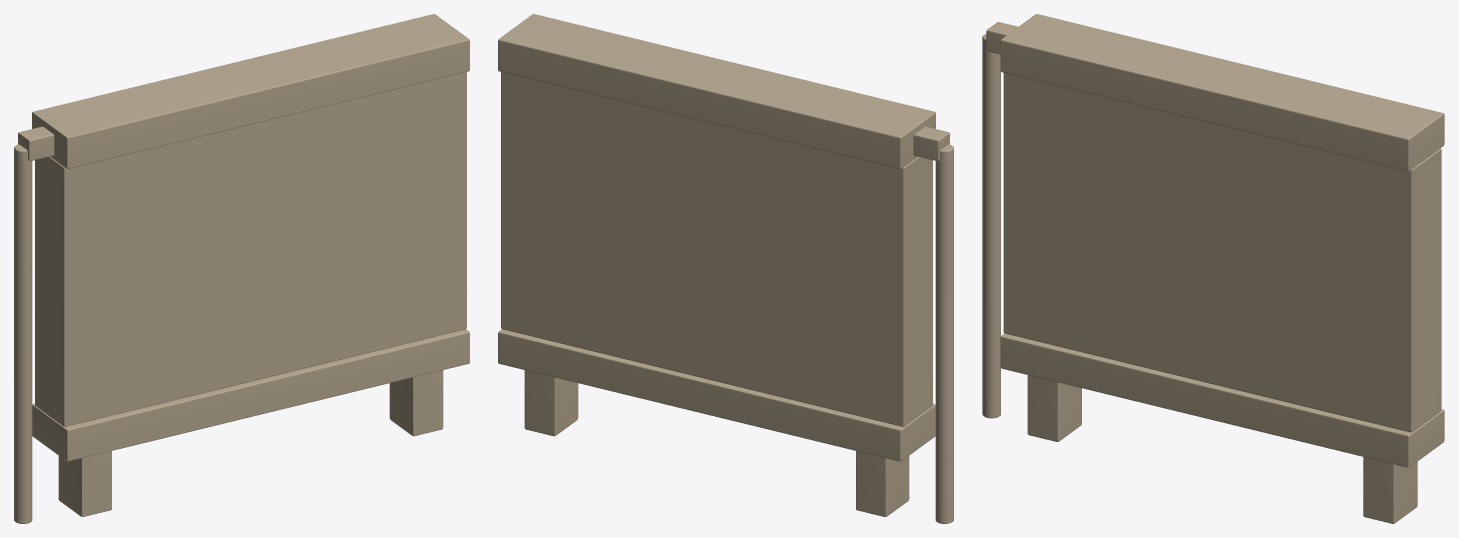
Rendered from radiator-lod1.glb.
3 views of the same model, side by side, from view 1: azimuth 30°, elevation 25°; view 2: azimuth 150°, elevation 25°; view 3: azimuth 330°, elevation 25° (orthographic).
Visible parts, largest first — view 1: radiator-lod1; view 2: radiator-lod1; view 3: radiator-lod1.
Boxes of the visible parts, x1,y1,x2,y2 form: radiator-lod1: (14, 14, 469, 523); radiator-lod1: (498, 14, 953, 523); radiator-lod1: (982, 14, 1444, 523).
Bounding box in the file's own units: 0.8455 × 0.72 × 0.12.
